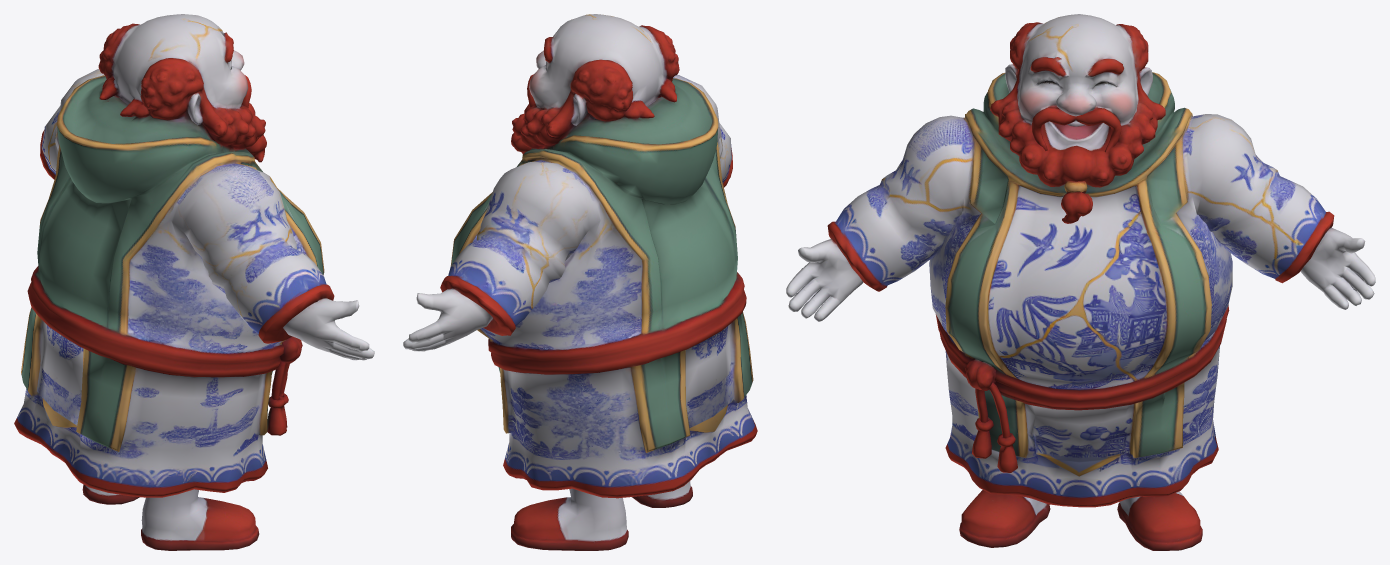
File: friar_celadon_tripo.glb
3 views of the same model, side by side, from view 1: azimuth 30°, elevation 25°; view 2: azimuth 150°, elevation 25°; view 3: azimuth 270°, elevation 25° (orthographic). The views are drawn at different scales.
Parts seen in each view (by area): view 1: tripo_node_5ba10086-d761-4483-b22f-ee53828aaafe; view 2: tripo_node_5ba10086-d761-4483-b22f-ee53828aaafe; view 3: tripo_node_5ba10086-d761-4483-b22f-ee53828aaafe.
Boxes of the visible parts, x1=… form: tripo_node_5ba10086-d761-4483-b22f-ee53828aaafe: x1=14, y1=14, x2=374, y2=550; tripo_node_5ba10086-d761-4483-b22f-ee53828aaafe: x1=403, y1=14, x2=757, y2=550; tripo_node_5ba10086-d761-4483-b22f-ee53828aaafe: x1=786, y1=14, x2=1375, y2=550.
Size of the model in its own units: 0.4902 by 0.9512 by 0.998.
1 material, 1 textured.
